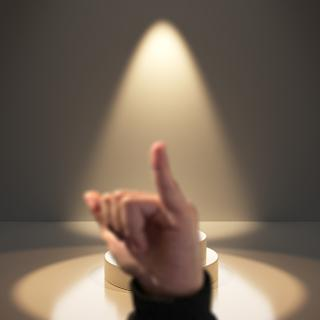HAVE: (72, 136, 210, 293)
